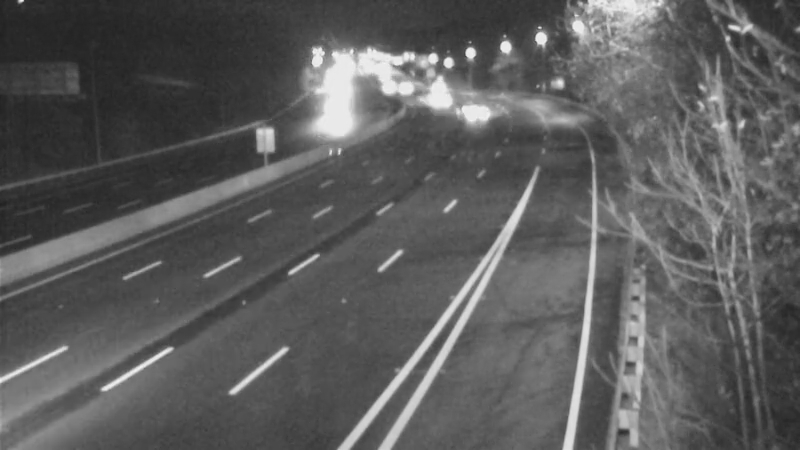vehicle: (407, 64, 457, 114), (412, 79, 462, 129), (458, 94, 508, 144), (310, 84, 360, 134)
